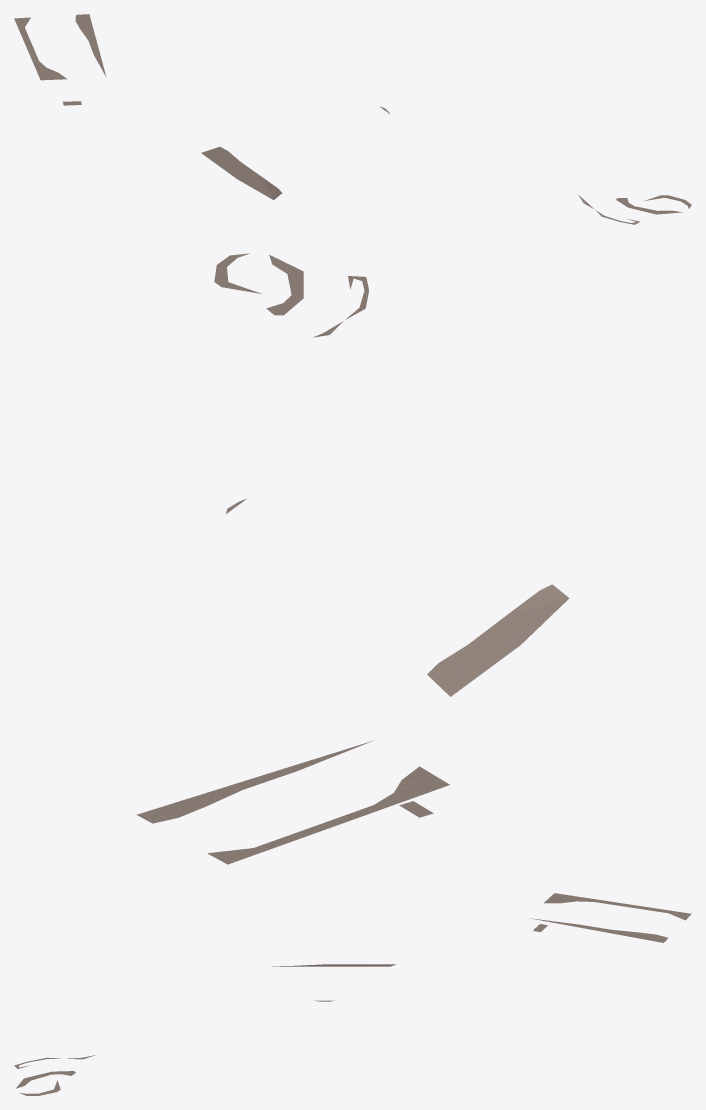
The model's file is kd_stage_1363c5_9_17.glb.
3 views of the same model, one above another, from view 1: azimuth 30°, elevation 25°; view 2: azimuth 150°, elevation 25°; view 3: azimuth 270°, elevation 25° (orthographic). The views are drawn at different scales.
Visible parts, largest first — view 1: kd_stage_1363c5_9_17; view 2: kd_stage_1363c5_9_17; view 3: kd_stage_1363c5_9_17.
Part boxes in pixels (x1,y1,x2,y2): kd_stage_1363c5_9_17: [14, 14, 691, 224]; kd_stage_1363c5_9_17: [136, 253, 569, 864]; kd_stage_1363c5_9_17: [14, 893, 691, 1095].
Bounding box in the file's own units: 94.89 × 8.11 × 149.
Materials: 1 (1 with a texture image).
